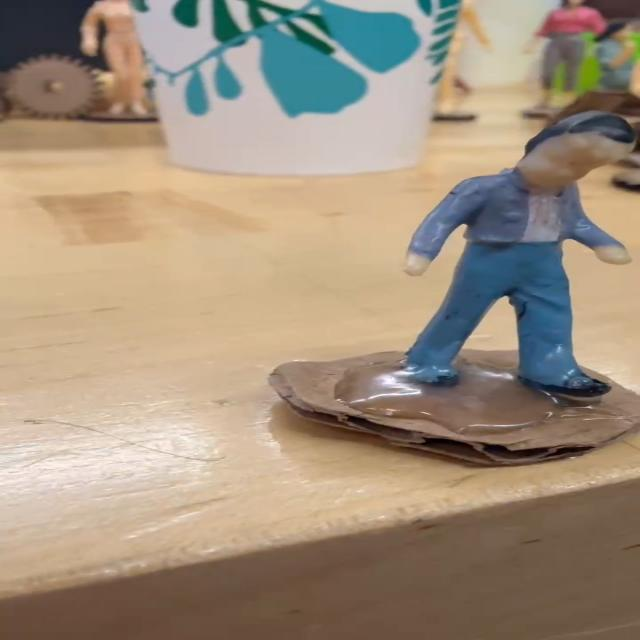Authorized: (400, 112, 640, 405)
